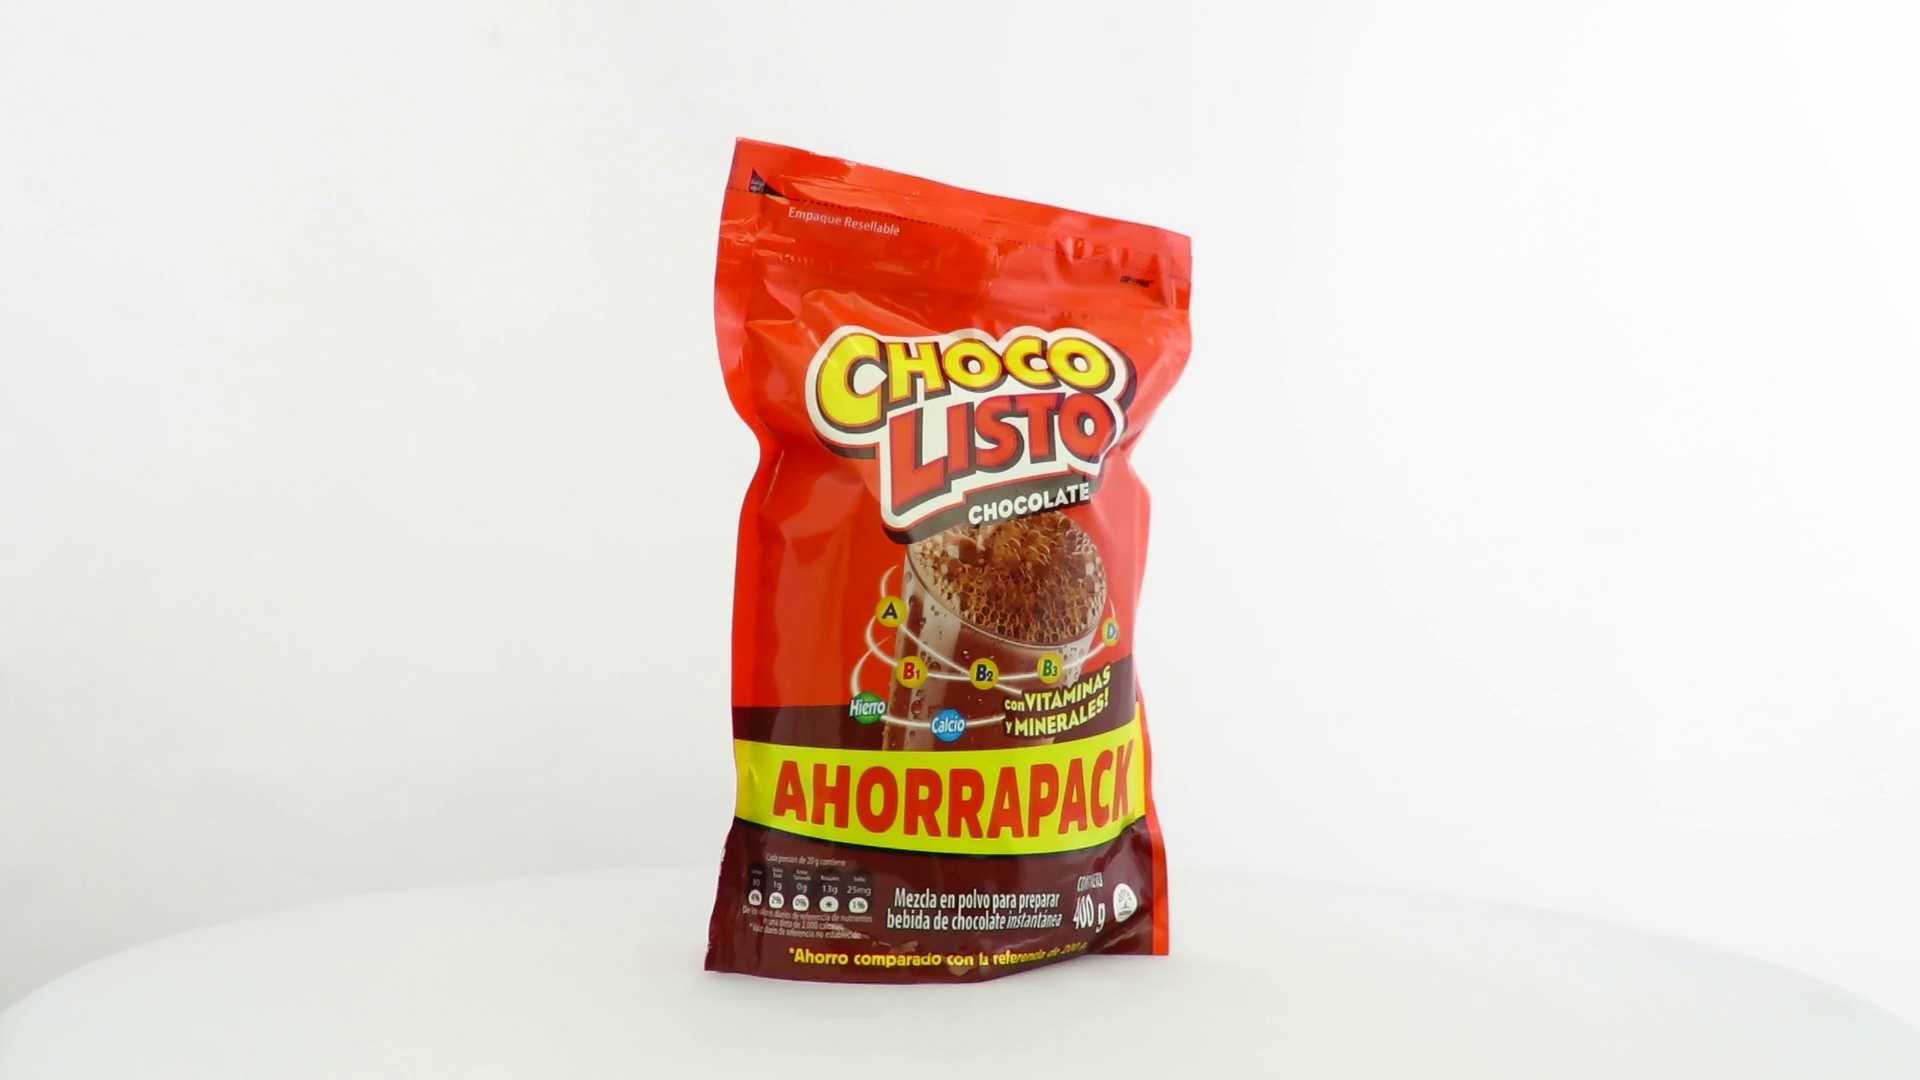COL0170103DYP40000: (699, 131, 1199, 992)
